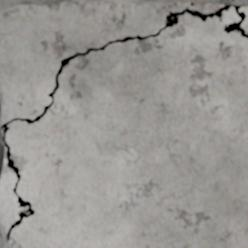brick: (0, 8, 247, 247), (0, 0, 222, 124), (240, 5, 247, 30)
crack: (0, 2, 247, 246)
